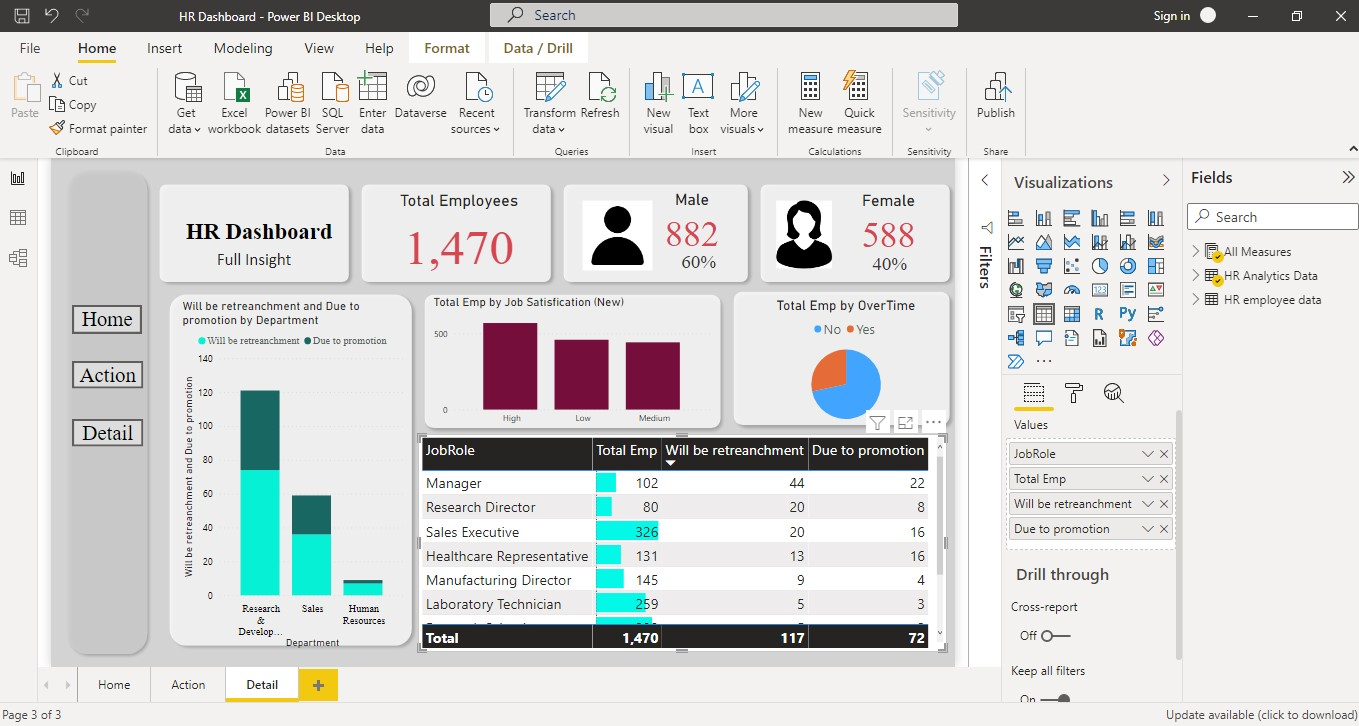

What the dashboard file says about the page in this screenshot:
{"tool":"powerbi","page":{"name":"Detail","canvas":[1280,720],"ordinal":2},"visuals":[{"type":"shape","box":[13.4,8.4,131,702.2],"z":0},{"type":"shape","box":[144.9,28.1,285.5,156.1],"z":1000},{"type":"shape","box":[994.5,28.1,285.5,156.1],"z":2000},{"type":"shape","box":[716,28.1,278.5,156.1],"z":3000},{"type":"shape","box":[430.4,28.1,285.5,156.1],"z":4000},{"type":"textbox","box":[144.3,80.6,299.9,70.7],"z":5000},{"type":"textbox","box":[137.2,123.1,299.9,56.6],"z":6000},{"type":"card","title":"Total Employees","fields":{"Values":["All Measures.Total Emp"]},"box":[462.6,46.7,229.2,120.2],"z":8000},{"type":"card","title":"Male","fields":{"Values":["All Measures.Male"]},"box":[800.6,45.3,212.2,89.1],"z":9000},{"type":"card","title":"Male","fields":{"Values":["All Measures.% male"]},"box":[850.1,133,131.6,28.3],"z":10000},{"type":"card","title":"Female","fields":{"Values":["All Measures.Female"]},"box":[1089,46.7,191,89.1],"z":11000},{"type":"card","title":"Male","fields":{"Values":["All Measures.% female"]},"box":[1119.7,135.9,131.6,28.3],"z":12000},{"type":"image","box":[746.9,55.2,108.9,108.9],"z":13000},{"type":"image","box":[1012.8,55.2,104.7,106.1],"z":14000},{"type":"shape","box":[158.4,183.9,360.7,514.9],"z":15000},{"type":"columnChart","fields":{"Category":["HR Analytics Data.Department"],"Y":["All Measures.Will be retreanchment","All Measures.Due to promotion"]},"box":[181.1,199.4,325.3,499.3],"z":16000},{"type":"shape","box":[519.1,183.9,437.1,206.5],"z":17000},{"type":"shape","box":[956.2,179.6,323.9,206.5],"z":18000},{"type":"columnChart","fields":{"Category":["HR Analytics Data.Job Satisfication (New)"],"Y":["All Measures.Total Emp"]},"box":[536.1,193.8,403.1,192.4],"z":19000},{"type":"pieChart","fields":{"Category":["HR Analytics Data.OverTime"],"Y":["All Measures.Total Emp"]},"box":[981.7,196.6,285.7,189.5],"z":20000},{"type":"tableEx","fields":{"Values":["HR Analytics Data.JobRole","All Measures.Total Emp","All Measures.Will be retreanchment","All Measures.Due to promotion"]},"box":[519.1,390.4,748.3,308.4],"z":21000},{"type":"actionButton","box":[29.1,208.5,99.1,41],"z":22000},{"type":"actionButton","box":[29.1,287.1,100.8,39.3],"z":23000},{"type":"actionButton","box":[29.1,369.1,100.8,39.3],"z":24000}]}

Visuals, with their boxes on the page's 1280x720 design canvas (x1, y1, x2, y2). These are canvas units, not pixel positions in the 1359x726 screenshot, which may show the page scaled, cropped or inside an application window:
shape: <region>13, 8, 144, 711</region>
shape: <region>145, 28, 430, 184</region>
shape: <region>994, 28, 1280, 184</region>
shape: <region>716, 28, 994, 184</region>
shape: <region>430, 28, 716, 184</region>
textbox: <region>144, 81, 444, 151</region>
textbox: <region>137, 123, 437, 180</region>
"Total Employees" card: <region>463, 47, 692, 167</region>
"Male" card: <region>801, 45, 1013, 134</region>
"Male" card: <region>850, 133, 982, 161</region>
"Female" card: <region>1089, 47, 1280, 136</region>
"Male" card: <region>1120, 136, 1251, 164</region>
image: <region>747, 55, 856, 164</region>
image: <region>1013, 55, 1118, 161</region>
shape: <region>158, 184, 519, 699</region>
columnChart - HR Analytics Data.Department x All Measures.Will be retreanchment: <region>181, 199, 506, 699</region>
shape: <region>519, 184, 956, 390</region>
shape: <region>956, 180, 1280, 386</region>
columnChart - HR Analytics Data.Job Satisfication (New) x All Measures.Total Emp: <region>536, 194, 939, 386</region>
pieChart - HR Analytics Data.OverTime x All Measures.Total Emp: <region>982, 197, 1267, 386</region>
tableEx - HR Analytics Data.JobRole x All Measures.Total Emp: <region>519, 390, 1267, 699</region>
actionButton: <region>29, 208, 128, 250</region>
actionButton: <region>29, 287, 130, 326</region>
actionButton: <region>29, 369, 130, 408</region>
